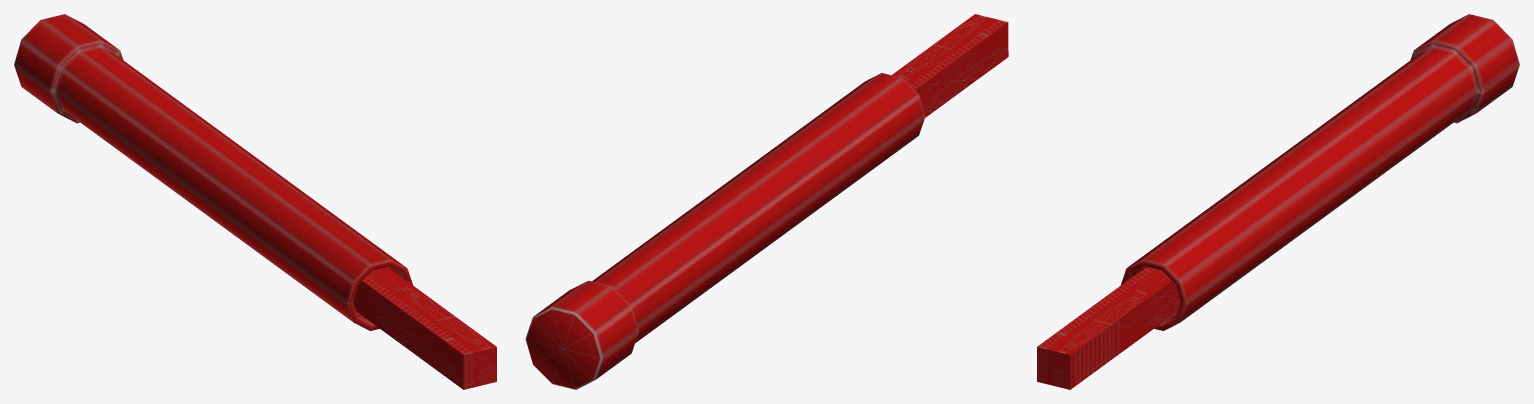
Rendered from item_flare_throw.dae.
The picture shows the model from 3 angles, left to right: view 1: azimuth 30°, elevation 25°; view 2: azimuth 150°, elevation 25°; view 3: azimuth 330°, elevation 25°; orthographic projection.
Visible parts, largest first — view 1: flare, _ps_FlareSmoke01_smoke; view 2: flare, _ps_FlareSmoke01_smoke; view 3: flare, _ps_FlareSmoke01_smoke.
Part boxes in pixels (box(x1,y1,x2,y2)): flare: box(14, 14, 413, 330); _ps_FlareSmoke01_smoke: box(353, 267, 496, 389); flare: box(525, 73, 925, 389); _ps_FlareSmoke01_smoke: box(892, 14, 1008, 117); flare: box(1120, 14, 1519, 330); _ps_FlareSmoke01_smoke: box(1037, 267, 1180, 389).
Size of what is drawn, in the model's own units: 0.0354 by 0.0337 by 0.3391.
